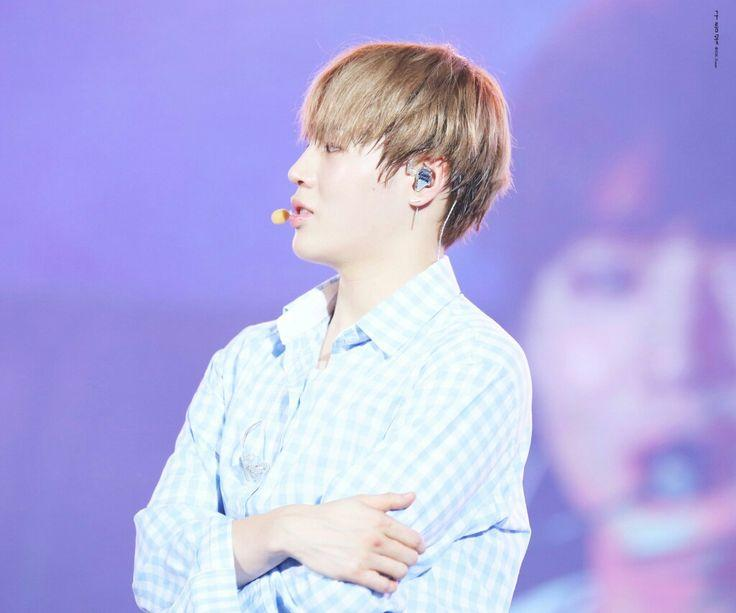earphone: (408, 166, 435, 195)
